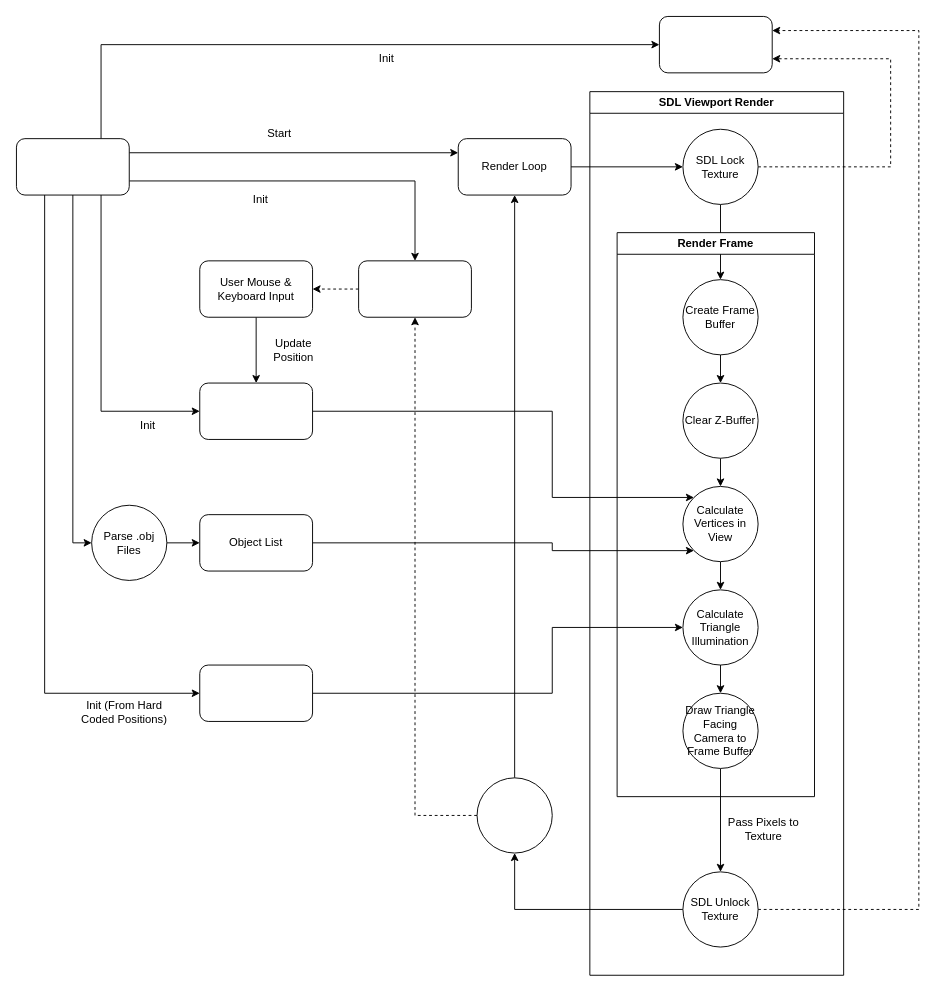
Some shapes in this 943 by 992 pixel diagram are drawn without their labels. The shapes that lost their labels are listed below. From the top down, each one's centre as x and y in pixels, then its label:
At [715,44]: "SDL Context".
At [72,166]: "Program Start".
At [414,288]: "Dear ImGui Context".
At [256,410]: "Camera".
At [256,692]: "World Light Sources".
At [514,815]: "Render Dear ImGui".
